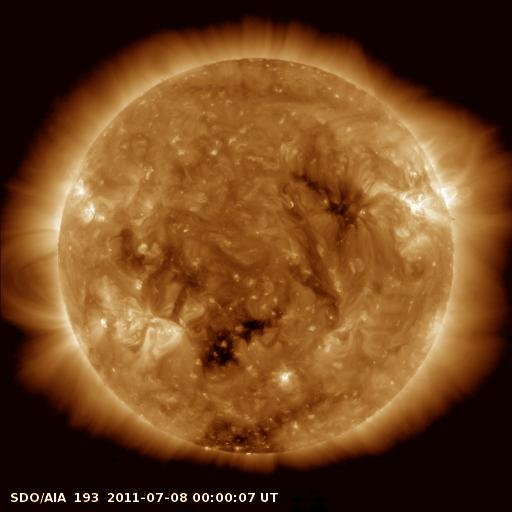coronal_hole: (193, 320, 272, 370), (193, 417, 281, 453), (295, 174, 358, 224)
